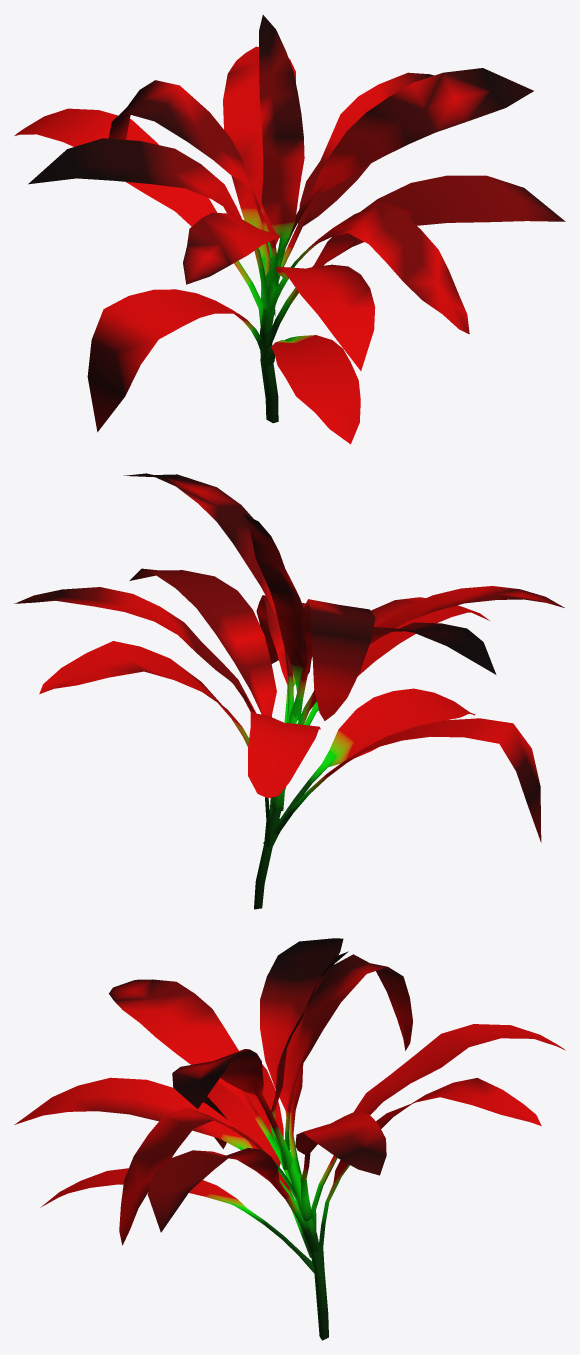
File: Var8_LOD0.fbx
3 renders of one model, top to bottom at view 1: azimuth 30°, elevation 25°; view 2: azimuth 150°, elevation 25°; view 3: azimuth 270°, elevation 25°, orthographic. The views are drawn at different scales.
Visible parts, largest first — view 1: _6206_Var8_LOD0; view 2: _6206_Var8_LOD0; view 3: _6206_Var8_LOD0.
Boxes of the visible parts, left/top/right/bottom form: _6206_Var8_LOD0: left=14, top=15, right=565, bottom=444; _6206_Var8_LOD0: left=14, top=473, right=564, bottom=909; _6206_Var8_LOD0: left=14, top=938, right=565, bottom=1340.
Size of the model in its own units: 38.88 by 32.78 by 42.18.
